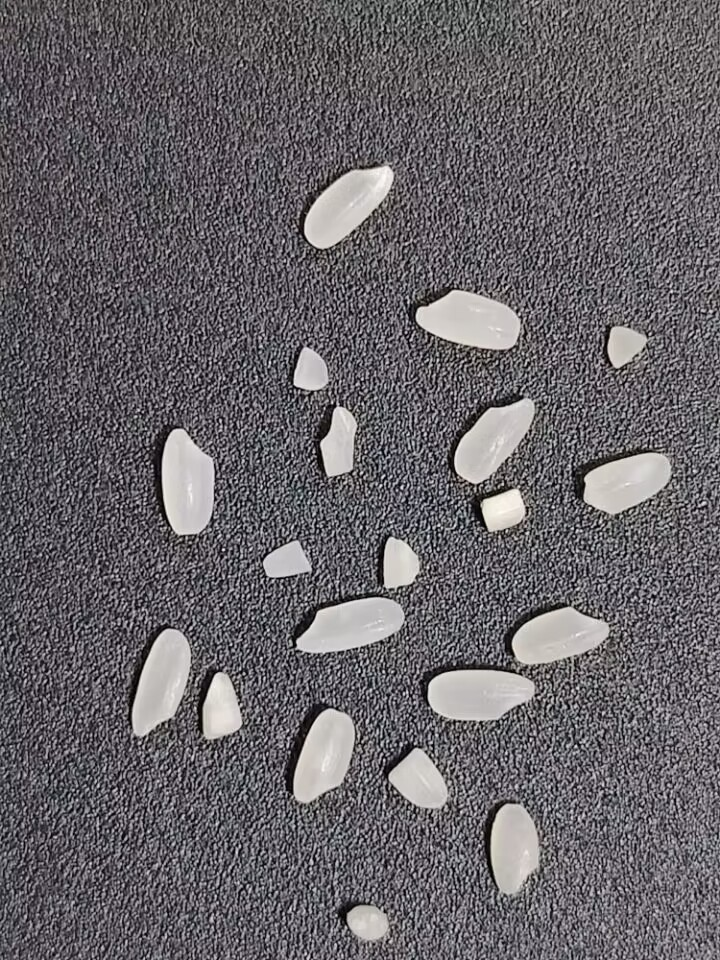broken: (386, 747, 450, 811), (317, 397, 366, 480), (200, 669, 245, 743), (477, 483, 536, 532), (377, 533, 421, 588), (259, 537, 316, 579), (605, 323, 650, 371), (290, 343, 331, 393), (345, 900, 391, 943)
rice: (301, 159, 398, 252), (451, 396, 537, 486), (126, 628, 196, 738), (413, 285, 522, 352), (290, 705, 357, 808), (292, 596, 407, 656), (425, 665, 539, 723), (159, 425, 218, 537), (510, 603, 612, 667), (582, 452, 673, 515), (488, 801, 542, 897)
